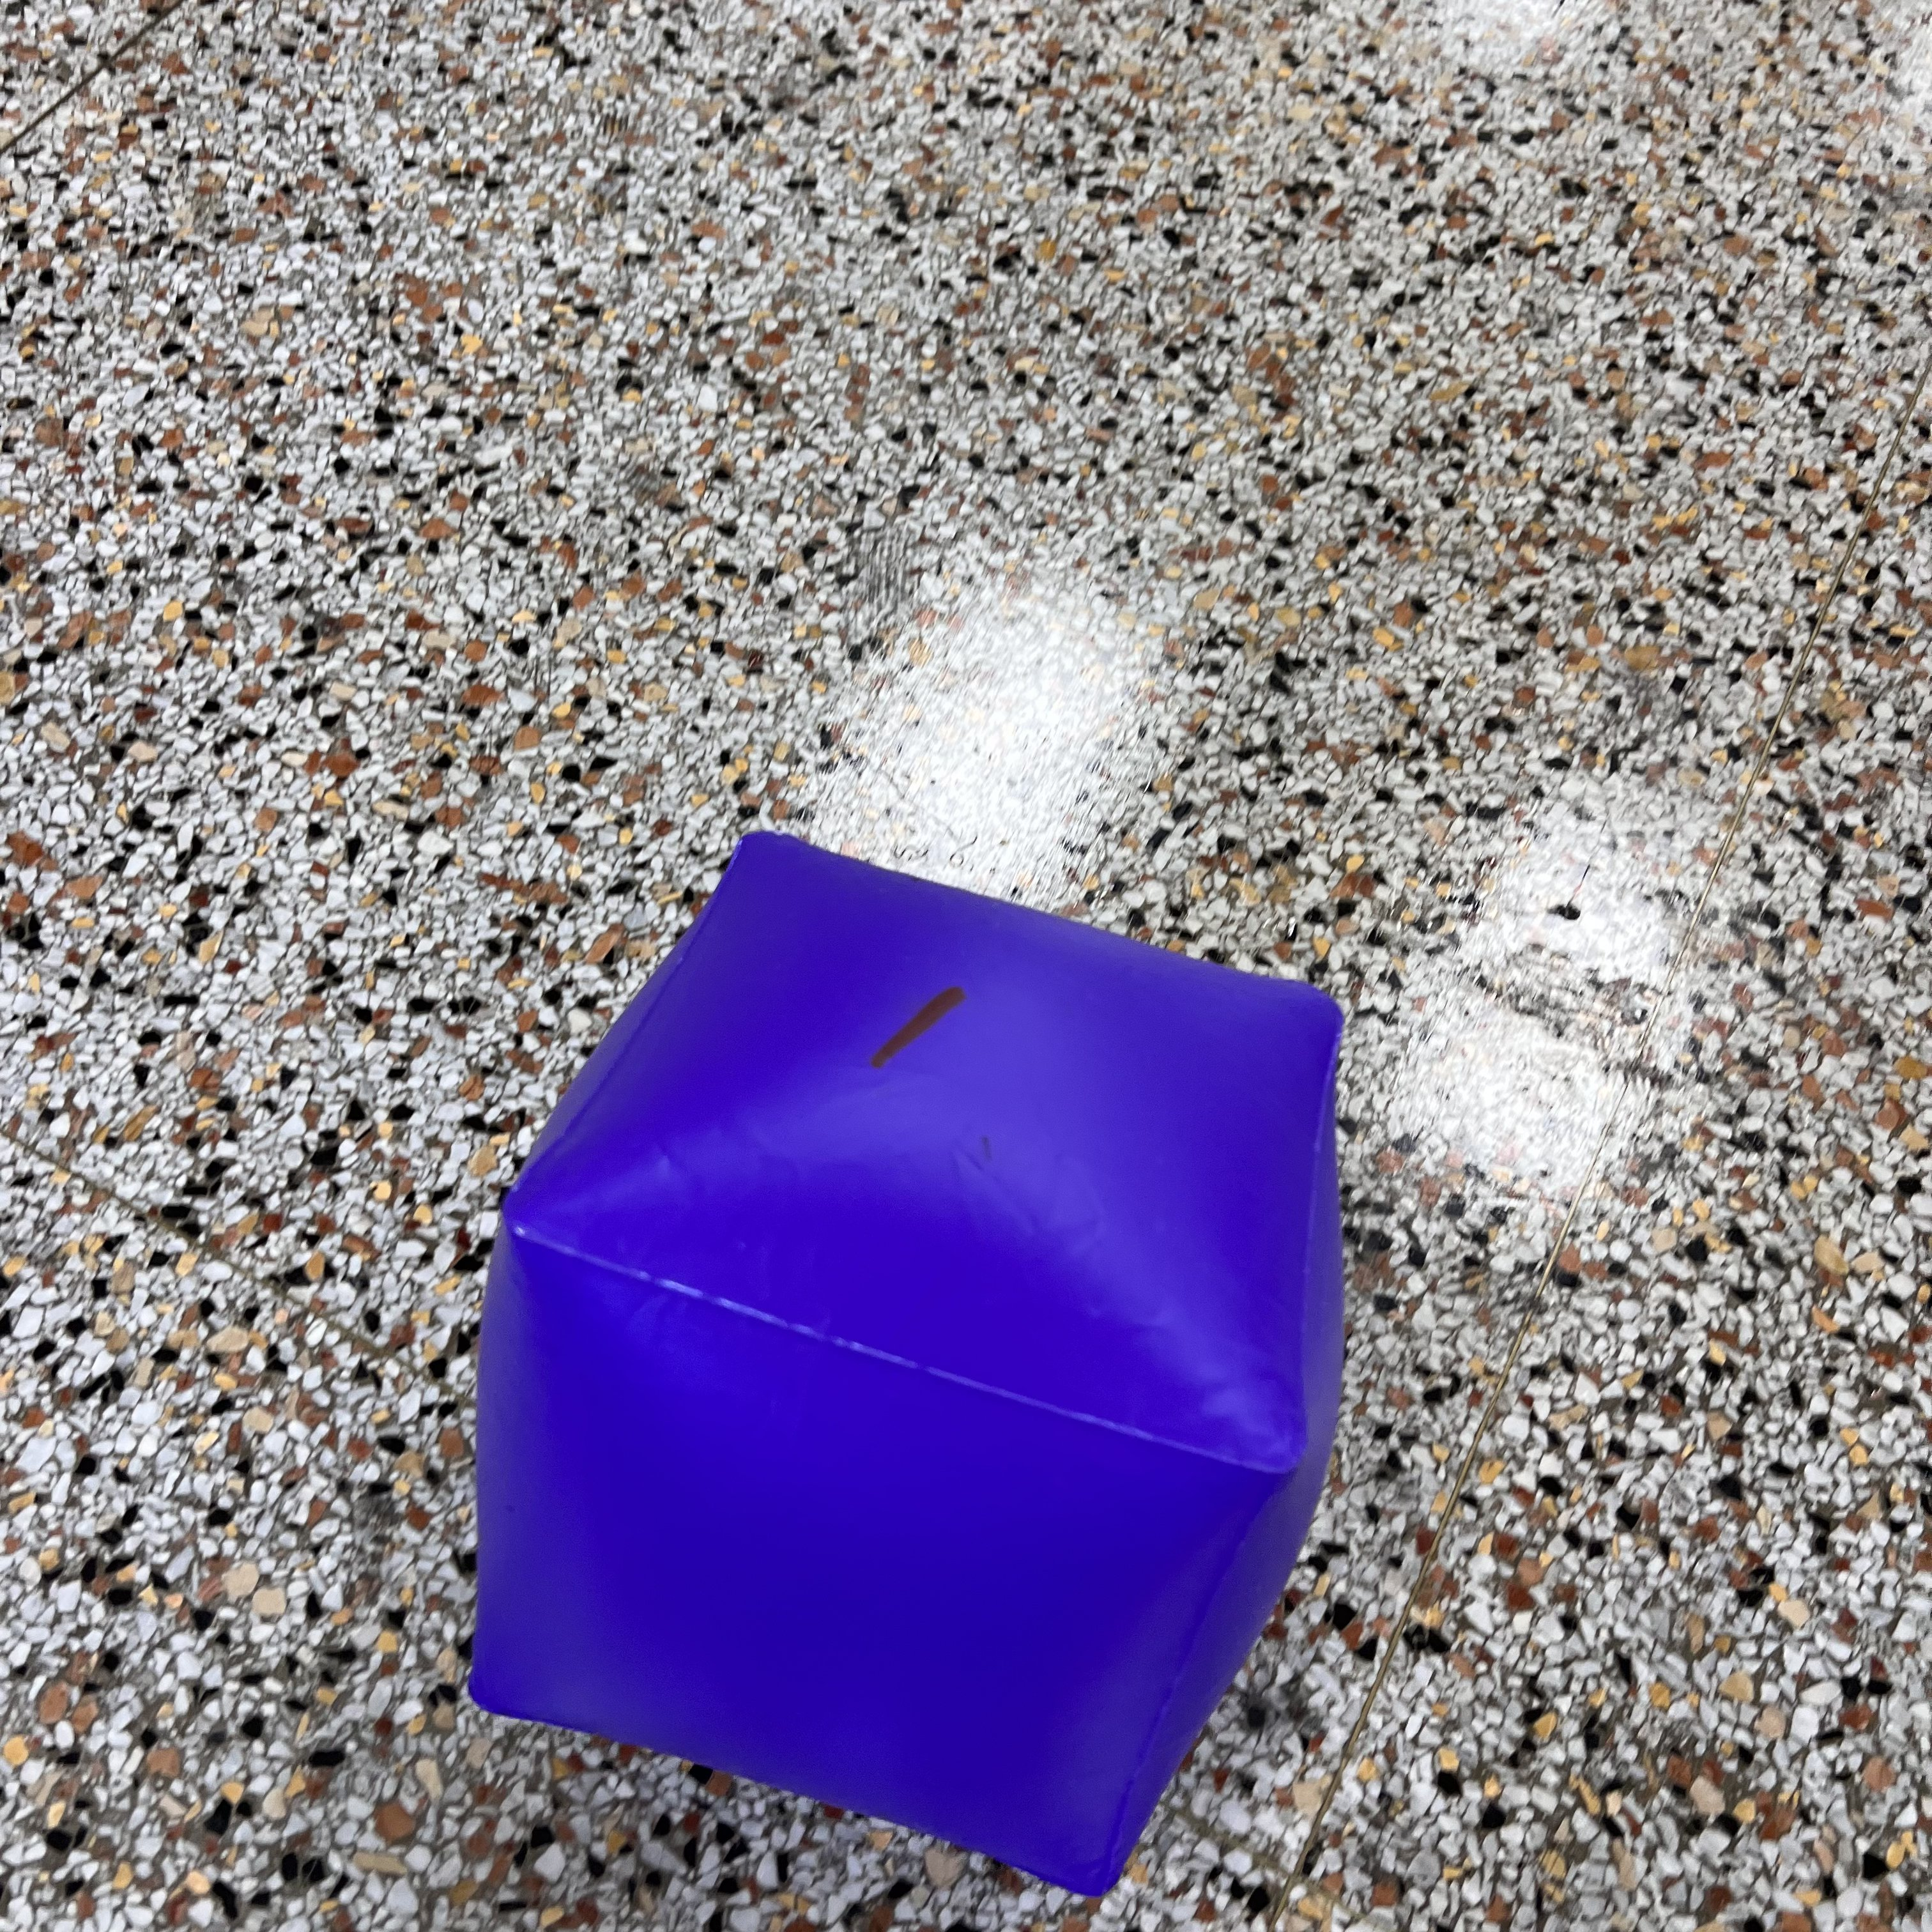cube: (469, 830, 1343, 1895)
